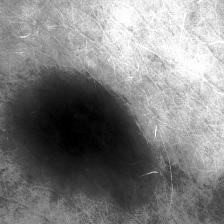Benign Marking or Mole: (15, 80, 148, 206)
